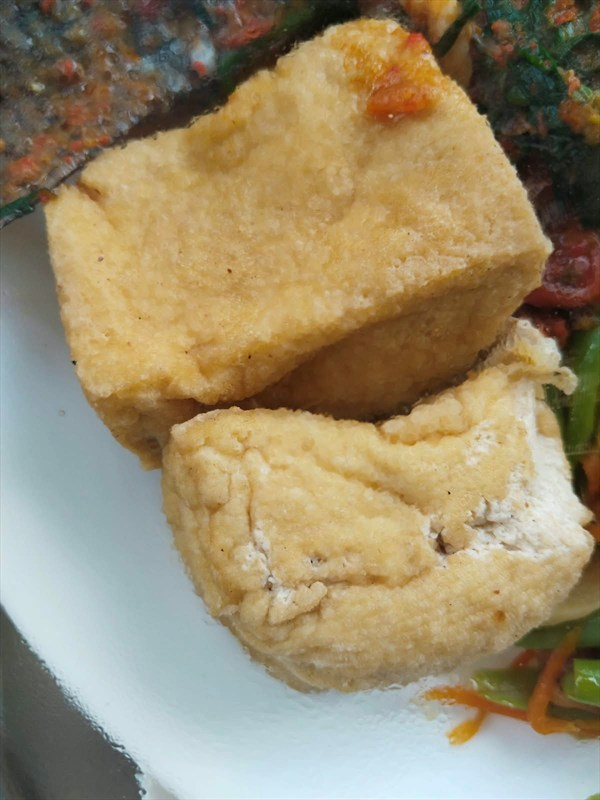Tahu Goreng: (80, 32, 568, 741)
